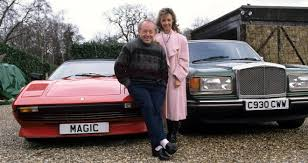number_plate: (54, 122, 117, 135), (245, 99, 294, 112)
